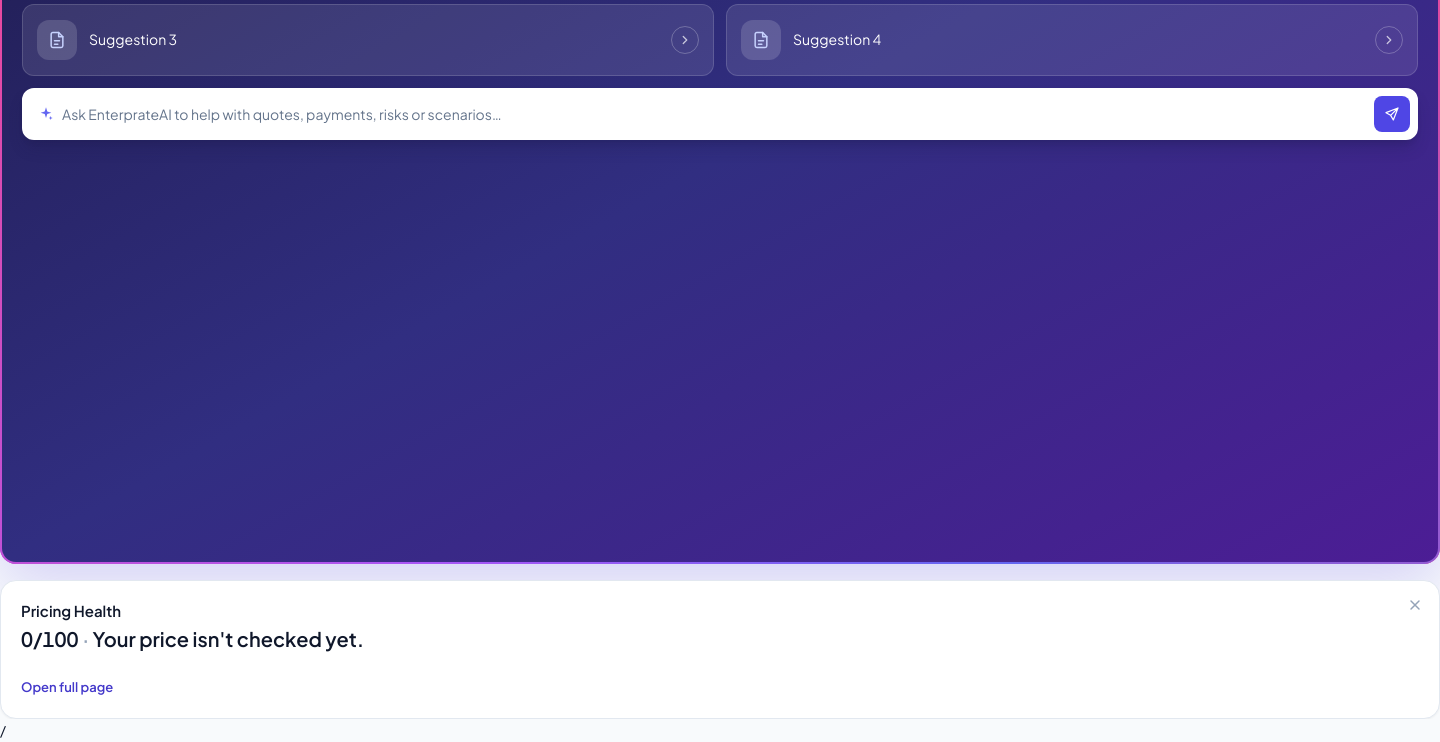
Test case: dismissing folds it away with Undo for 5 seconds; Undo brings it back
(page scrolled)
Click the button named "Dismiss".
click(1415, 605)  # box [1399,589,1431,621]
(page scrolled)
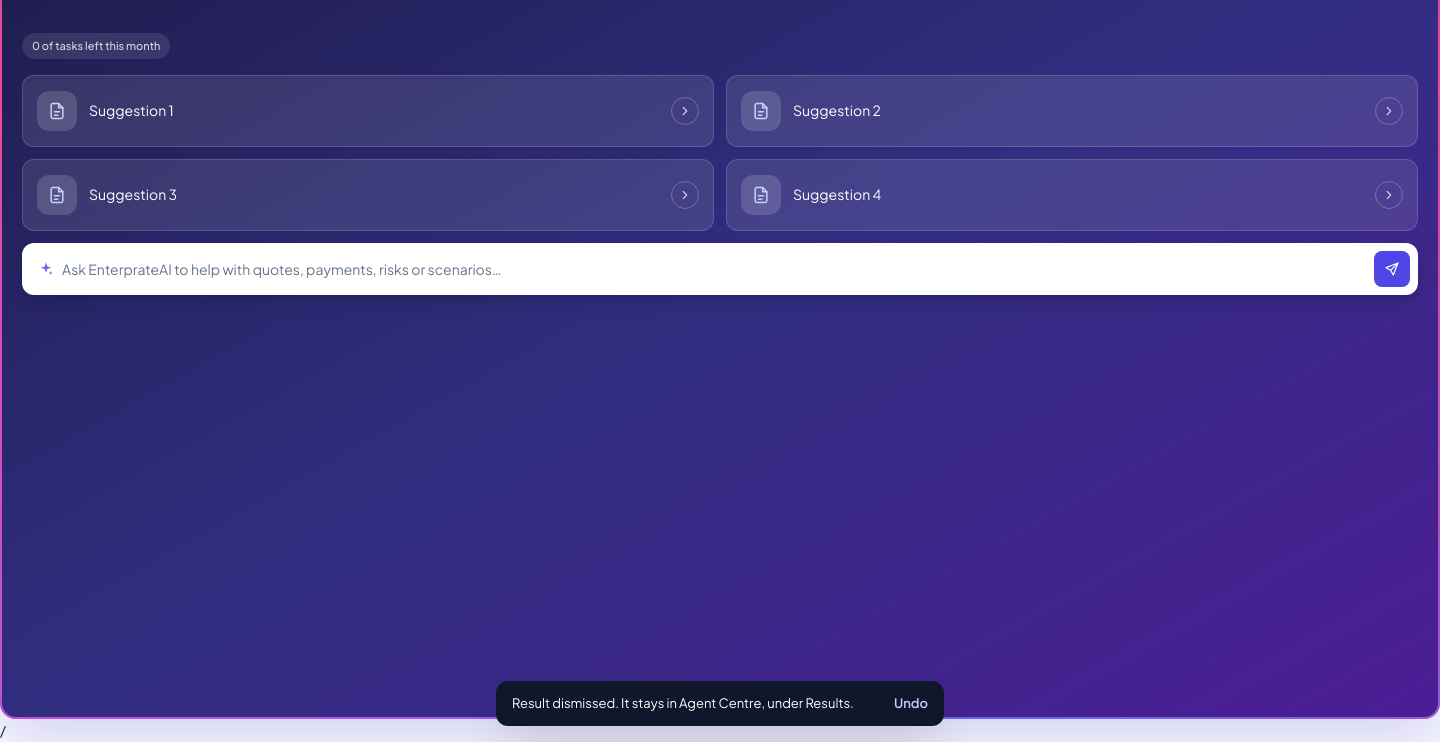
Expected: the message "Result dismissed. It stays in Agent Centre, under Results. Undo" is shown, [496,681,944,726]
Click the button "Undo".
click(911, 703)  # box [894,693,928,714]
(page scrolled)
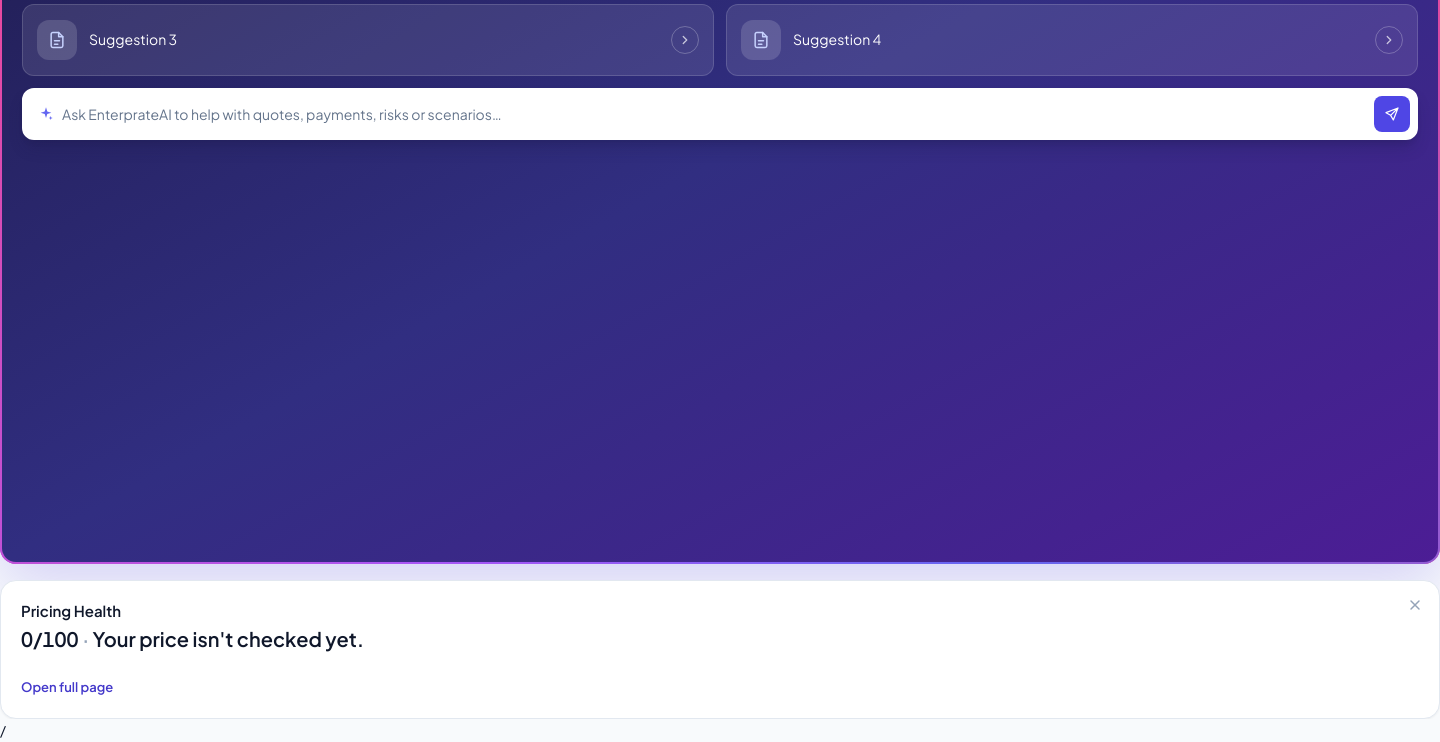
Expected: the element that starts with "Pricing Health" is shown, [0,580,1439,719]
